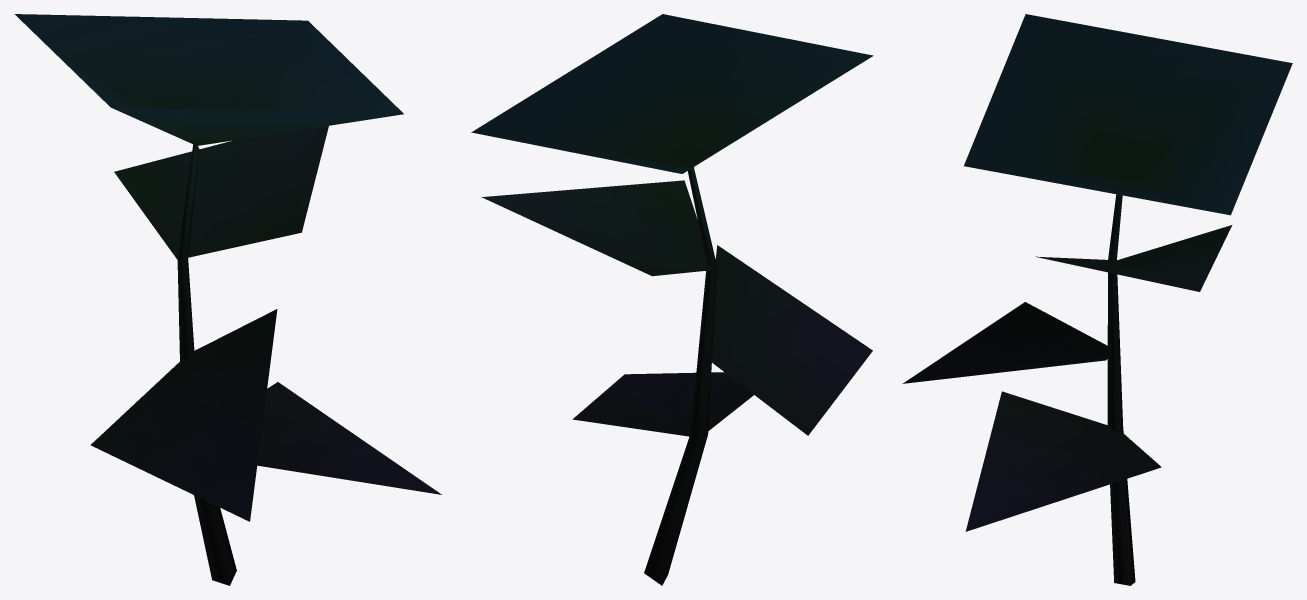
The model's file is TSI_Flower_02B.fbx.
The picture shows the model from 3 angles, left to right: view 1: azimuth 30°, elevation 25°; view 2: azimuth 150°, elevation 25°; view 3: azimuth 270°, elevation 25°; orthographic projection. The views are drawn at different scales.
Parts seen in each view (by area): view 1: TSI_Flower_02B_LOD0; view 2: TSI_Flower_02B_LOD0; view 3: TSI_Flower_02B_LOD0.
Part boxes in pixels (x1,y1,x2,y2): TSI_Flower_02B_LOD0: (15,14,441,585); TSI_Flower_02B_LOD0: (471,14,873,585); TSI_Flower_02B_LOD0: (902,14,1292,585).
Bounding box in the file's own units: 31.37 × 52.41 × 37.33.
